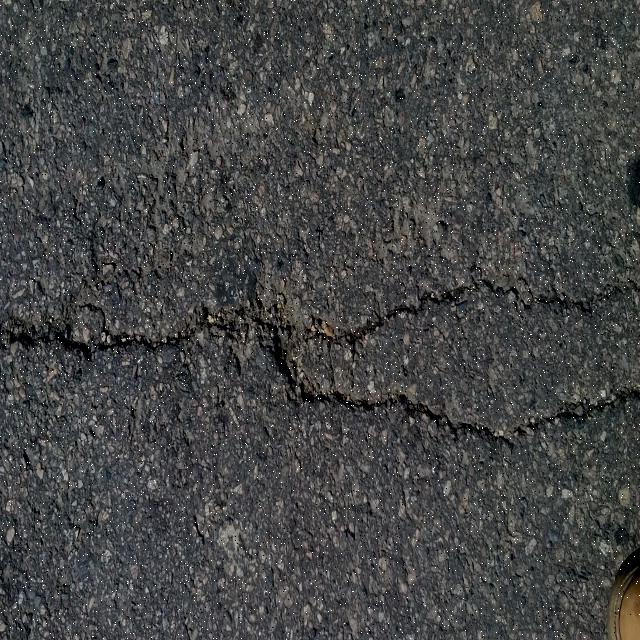Crack: (0, 271, 640, 450)
